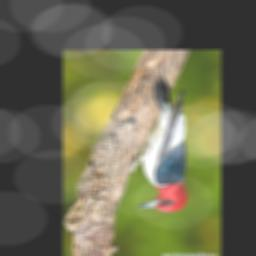Woodpecker: (126, 66, 191, 211)
